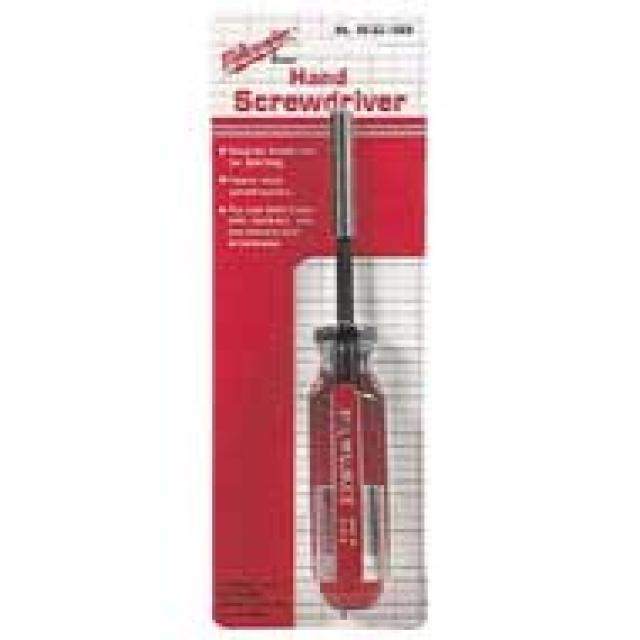screwdriver: (305, 94, 397, 612)
